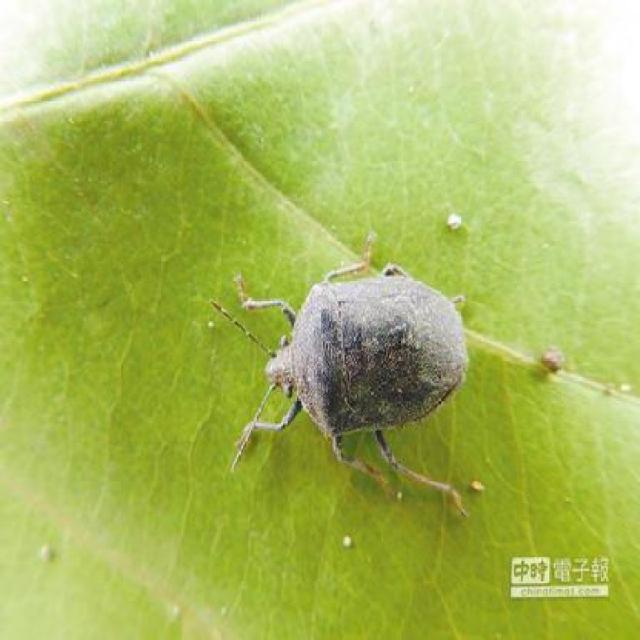rice-bug: (216, 236, 482, 504)
